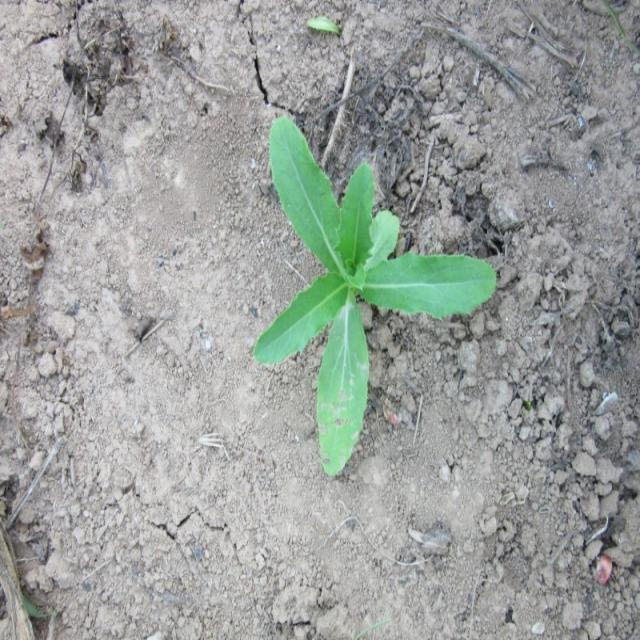cs: (251, 116, 499, 479)
